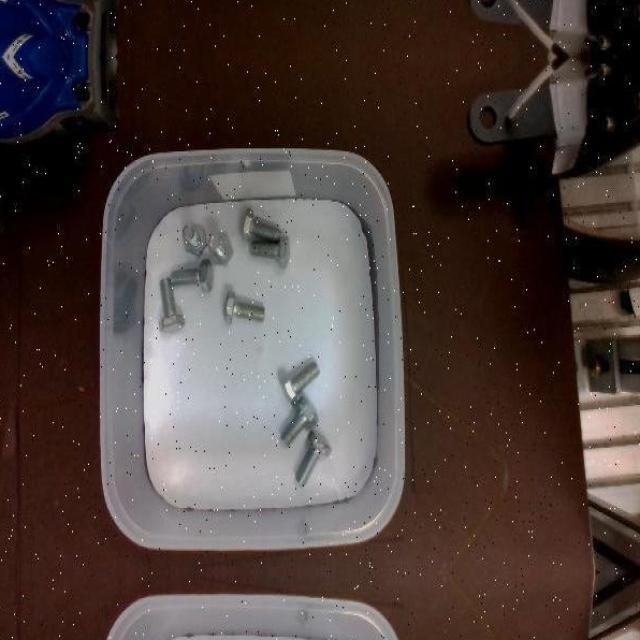screw: (296, 431, 333, 486), (281, 395, 320, 447), (280, 361, 321, 406), (159, 277, 186, 333), (170, 258, 213, 292), (242, 206, 281, 242), (250, 235, 290, 270), (226, 289, 265, 323), (208, 232, 234, 266), (182, 223, 208, 256)
